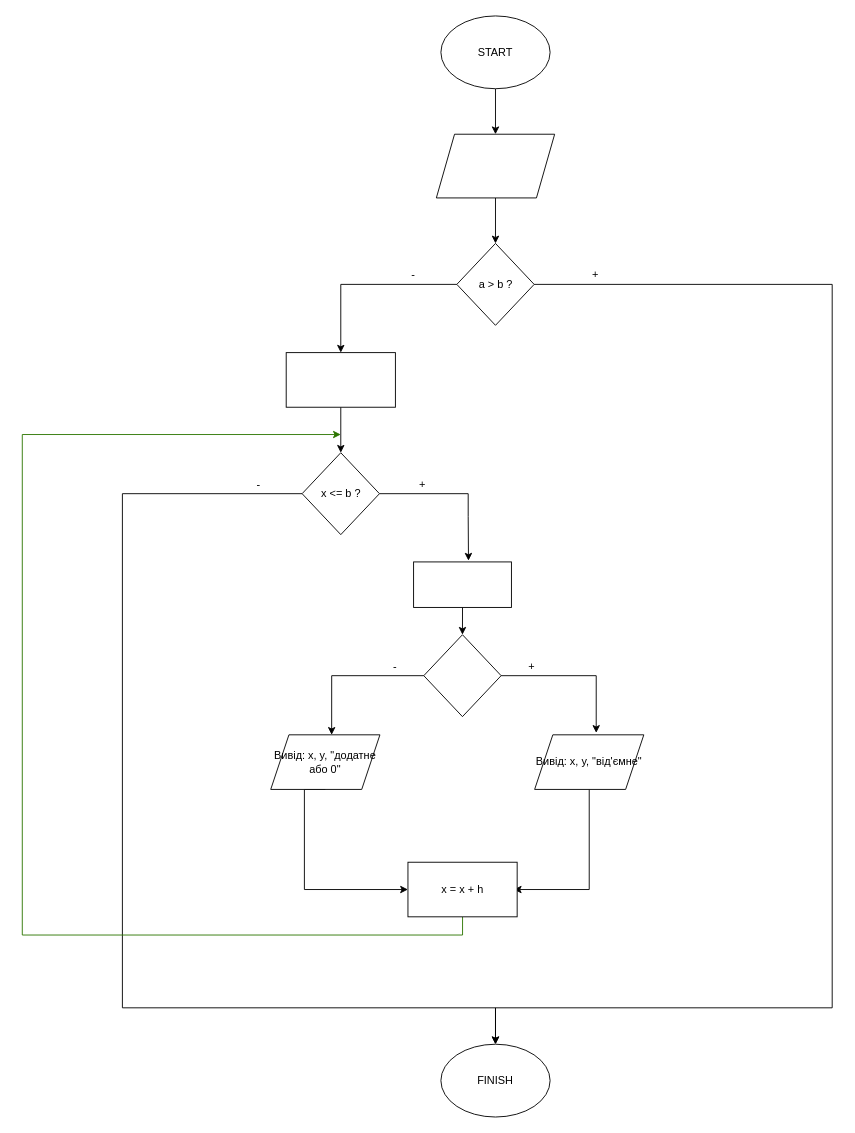
Image size: 855x1133. Some labels were removed from this diagram. The shapes that lost their labels are listed below. From the top down, each one's centre as x and y in pixels, then its label:
the point at 495,165: Ввiд данних a,b,h
the point at 340,379: x = a
the point at 462,584: y = x*x - 4*x + 3
the point at 462,675: y < 0 ?
